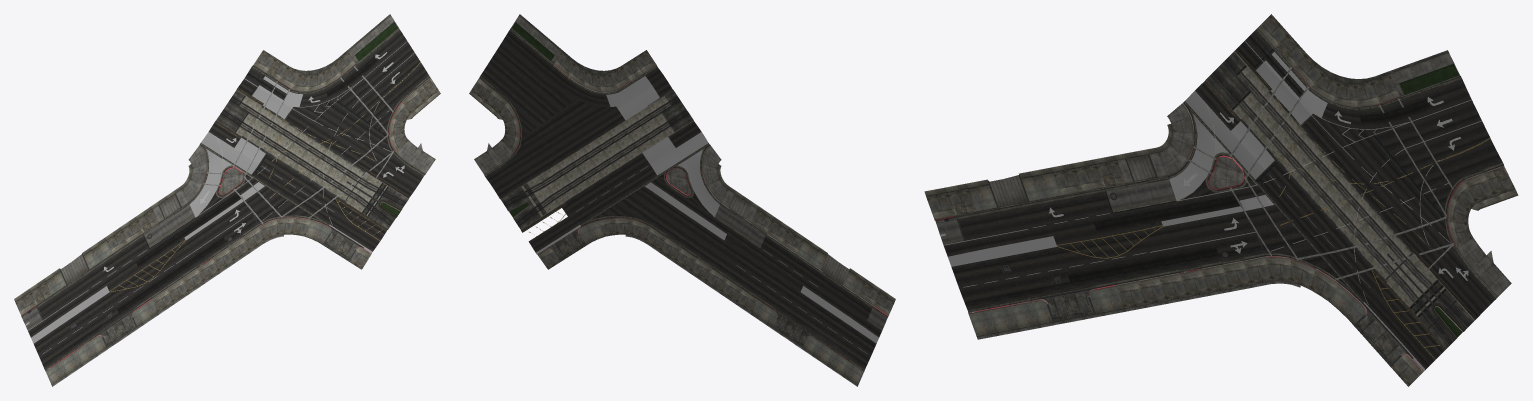
3 views of the same model, side by side, from view 1: azimuth 30°, elevation 25°; view 2: azimuth 150°, elevation 25°; view 3: azimuth 330°, elevation 25° (orthographic). The views are drawn at different scales.
Parts seen in each view (by area): view 1: sc1_rd_r3_02; view 2: sc1_rd_r3_02; view 3: sc1_rd_r3_02.
Boxes of the visible parts, <box> form: sc1_rd_r3_02: <box>14,14,440,386</box>; sc1_rd_r3_02: <box>469,14,895,386</box>; sc1_rd_r3_02: <box>924,14,1518,386</box>.
Bounding box in the file's own units: 15545 × 10110 × 65.23.
